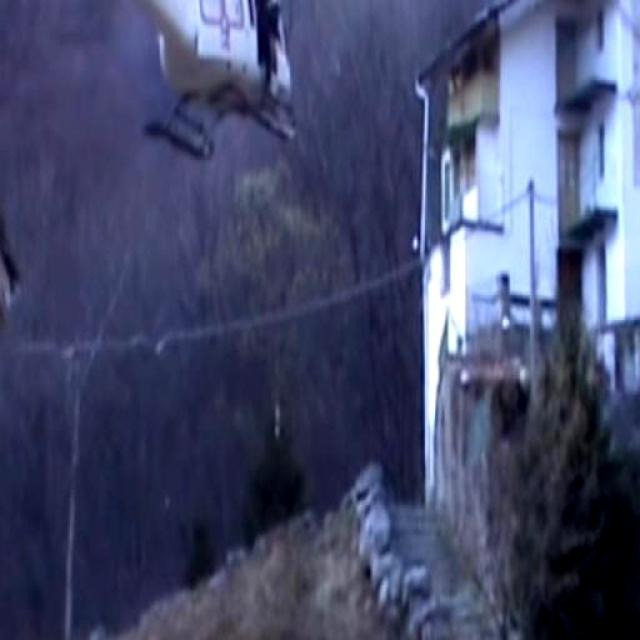drone: (58, 0, 334, 172)
